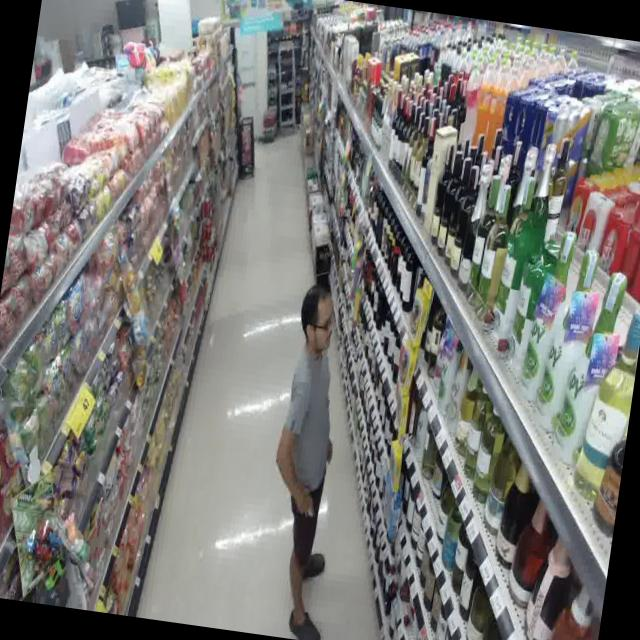shoplifting: (233, 257, 386, 640)
